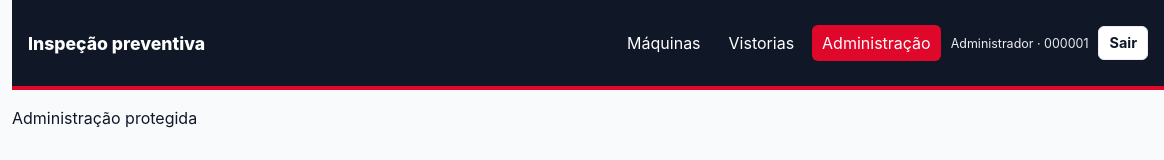
sessão e rotas › permite ao administrador abrir contas e vistorias, mas nega administração ao gestor
Expected: the text "Administração protegida" is shown, [12,108,197,128]
Click the link "Vistorias" at (761, 43), box [729,33,794,53]
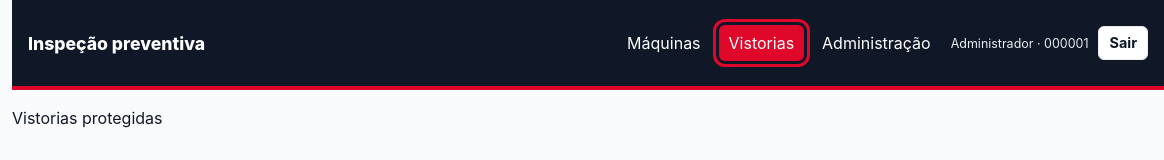
Expected: the text "Vistorias protegidas" is shown, [12,108,162,128]
